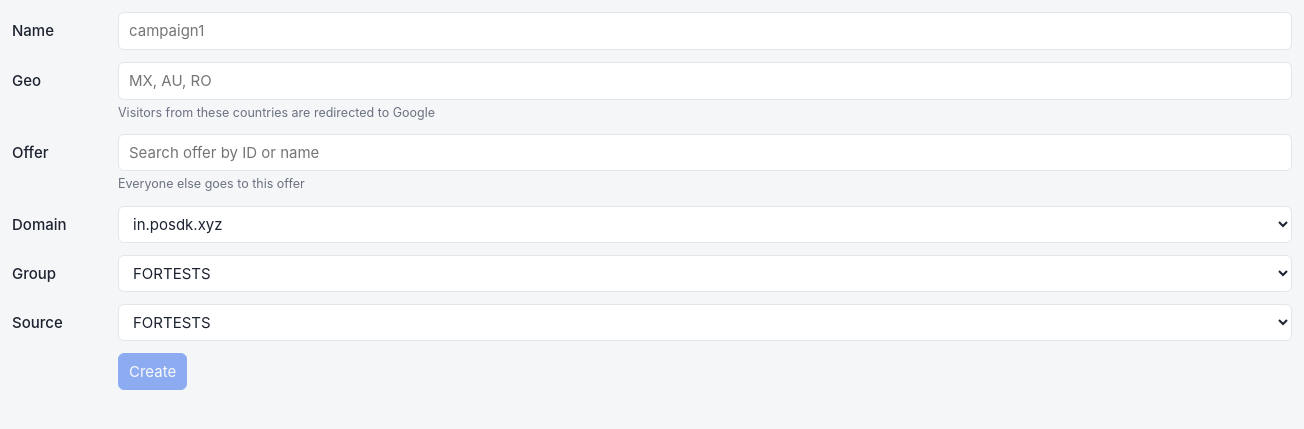
Test: CampaignForm › previews the prefixed name and submits the campaign
The width and height of the screenshot is (1304, 429).
Later steps or results of the test are not shown.
Expected: the dropdown labelled "Domain" shows "in.posdk.xyz", [118,206,1292,242]
Step 1. Type "spring" into the field labelled "Name" → x=705, y=31, box [118,12,1292,50]
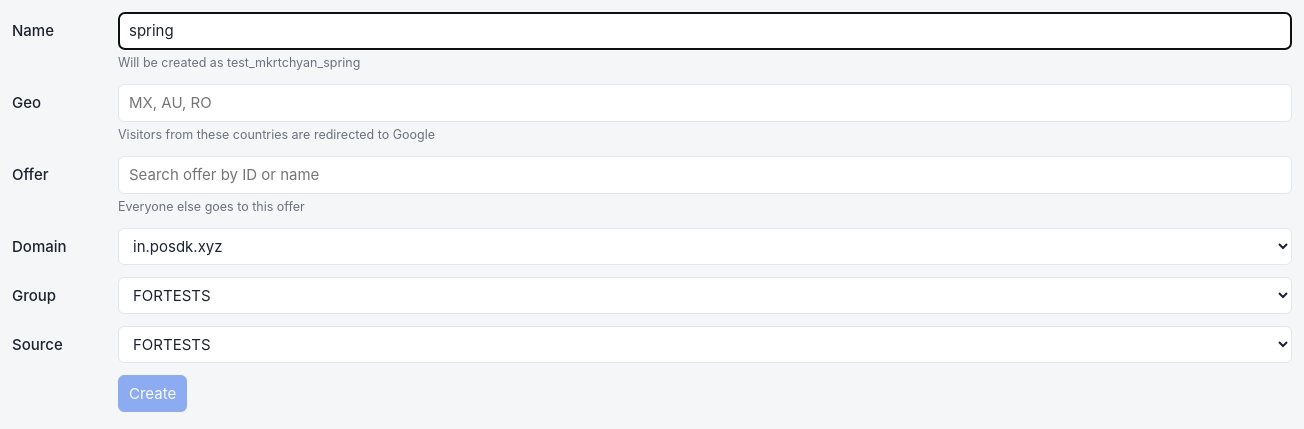
Expected: the text "Will be created as test_mkrtchyan_spring" is shown, [118,55,360,70]
